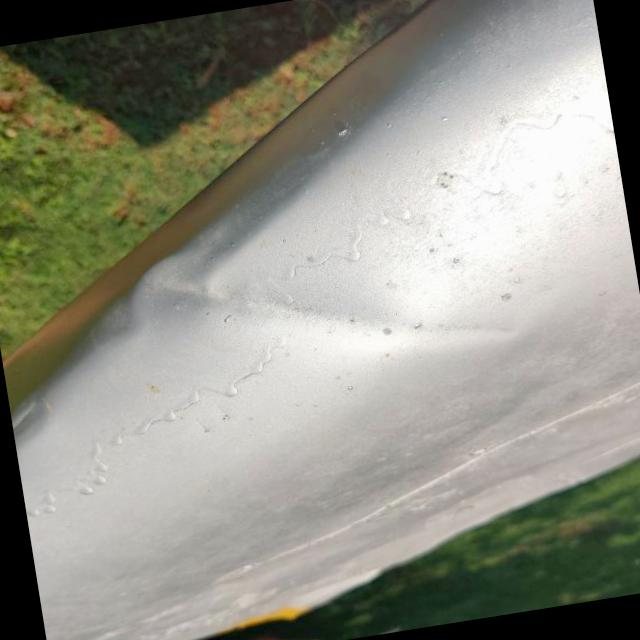dent: (76, 149, 492, 426), (6, 375, 66, 456)
